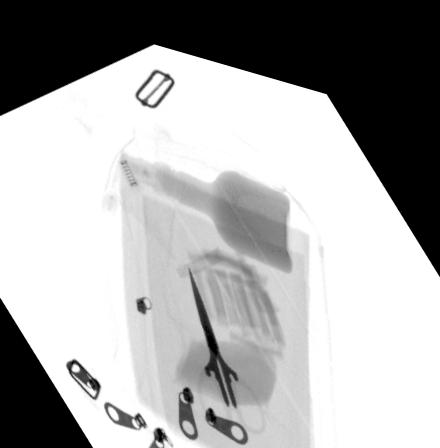Scissors: (187, 253, 267, 423)
